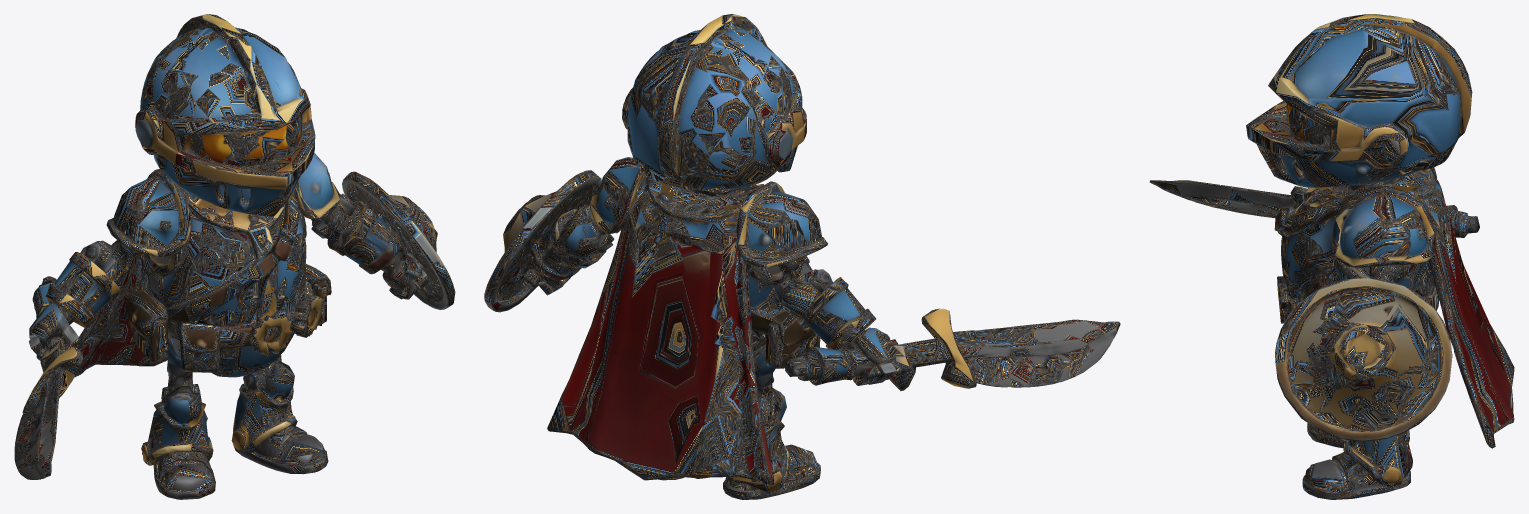
File: knight-robot-walk.glb
3 renders of one model, left to right at view 1: azimuth 30°, elevation 25°; view 2: azimuth 150°, elevation 25°; view 3: azimuth 270°, elevation 25°, orthographic. The views are drawn at different scales.
Size of the model in its own units: 1 by 0.8626 by 0.6398.
Materials: 1 (1 with a texture image).
